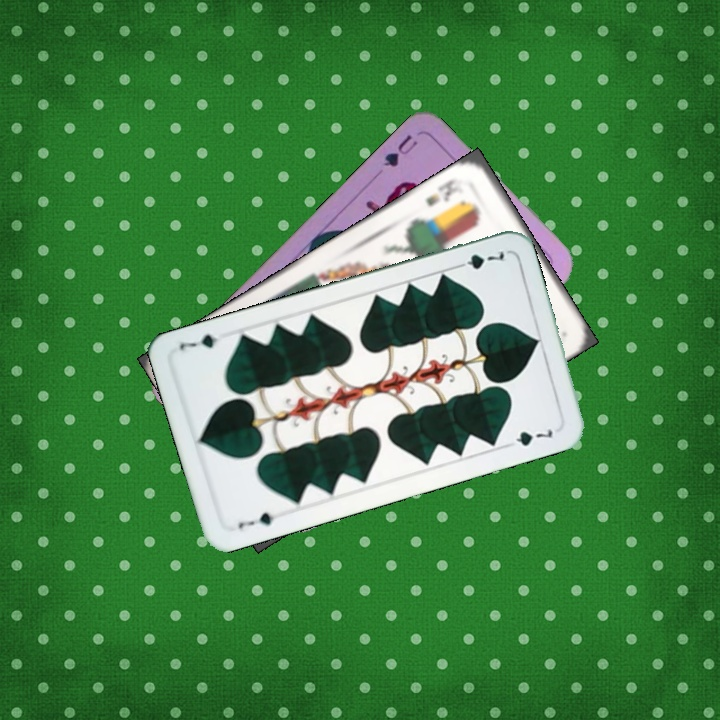EK: (421, 173, 467, 210)
G7: (450, 244, 507, 272), (234, 508, 277, 531)
GU: (379, 130, 421, 170)
